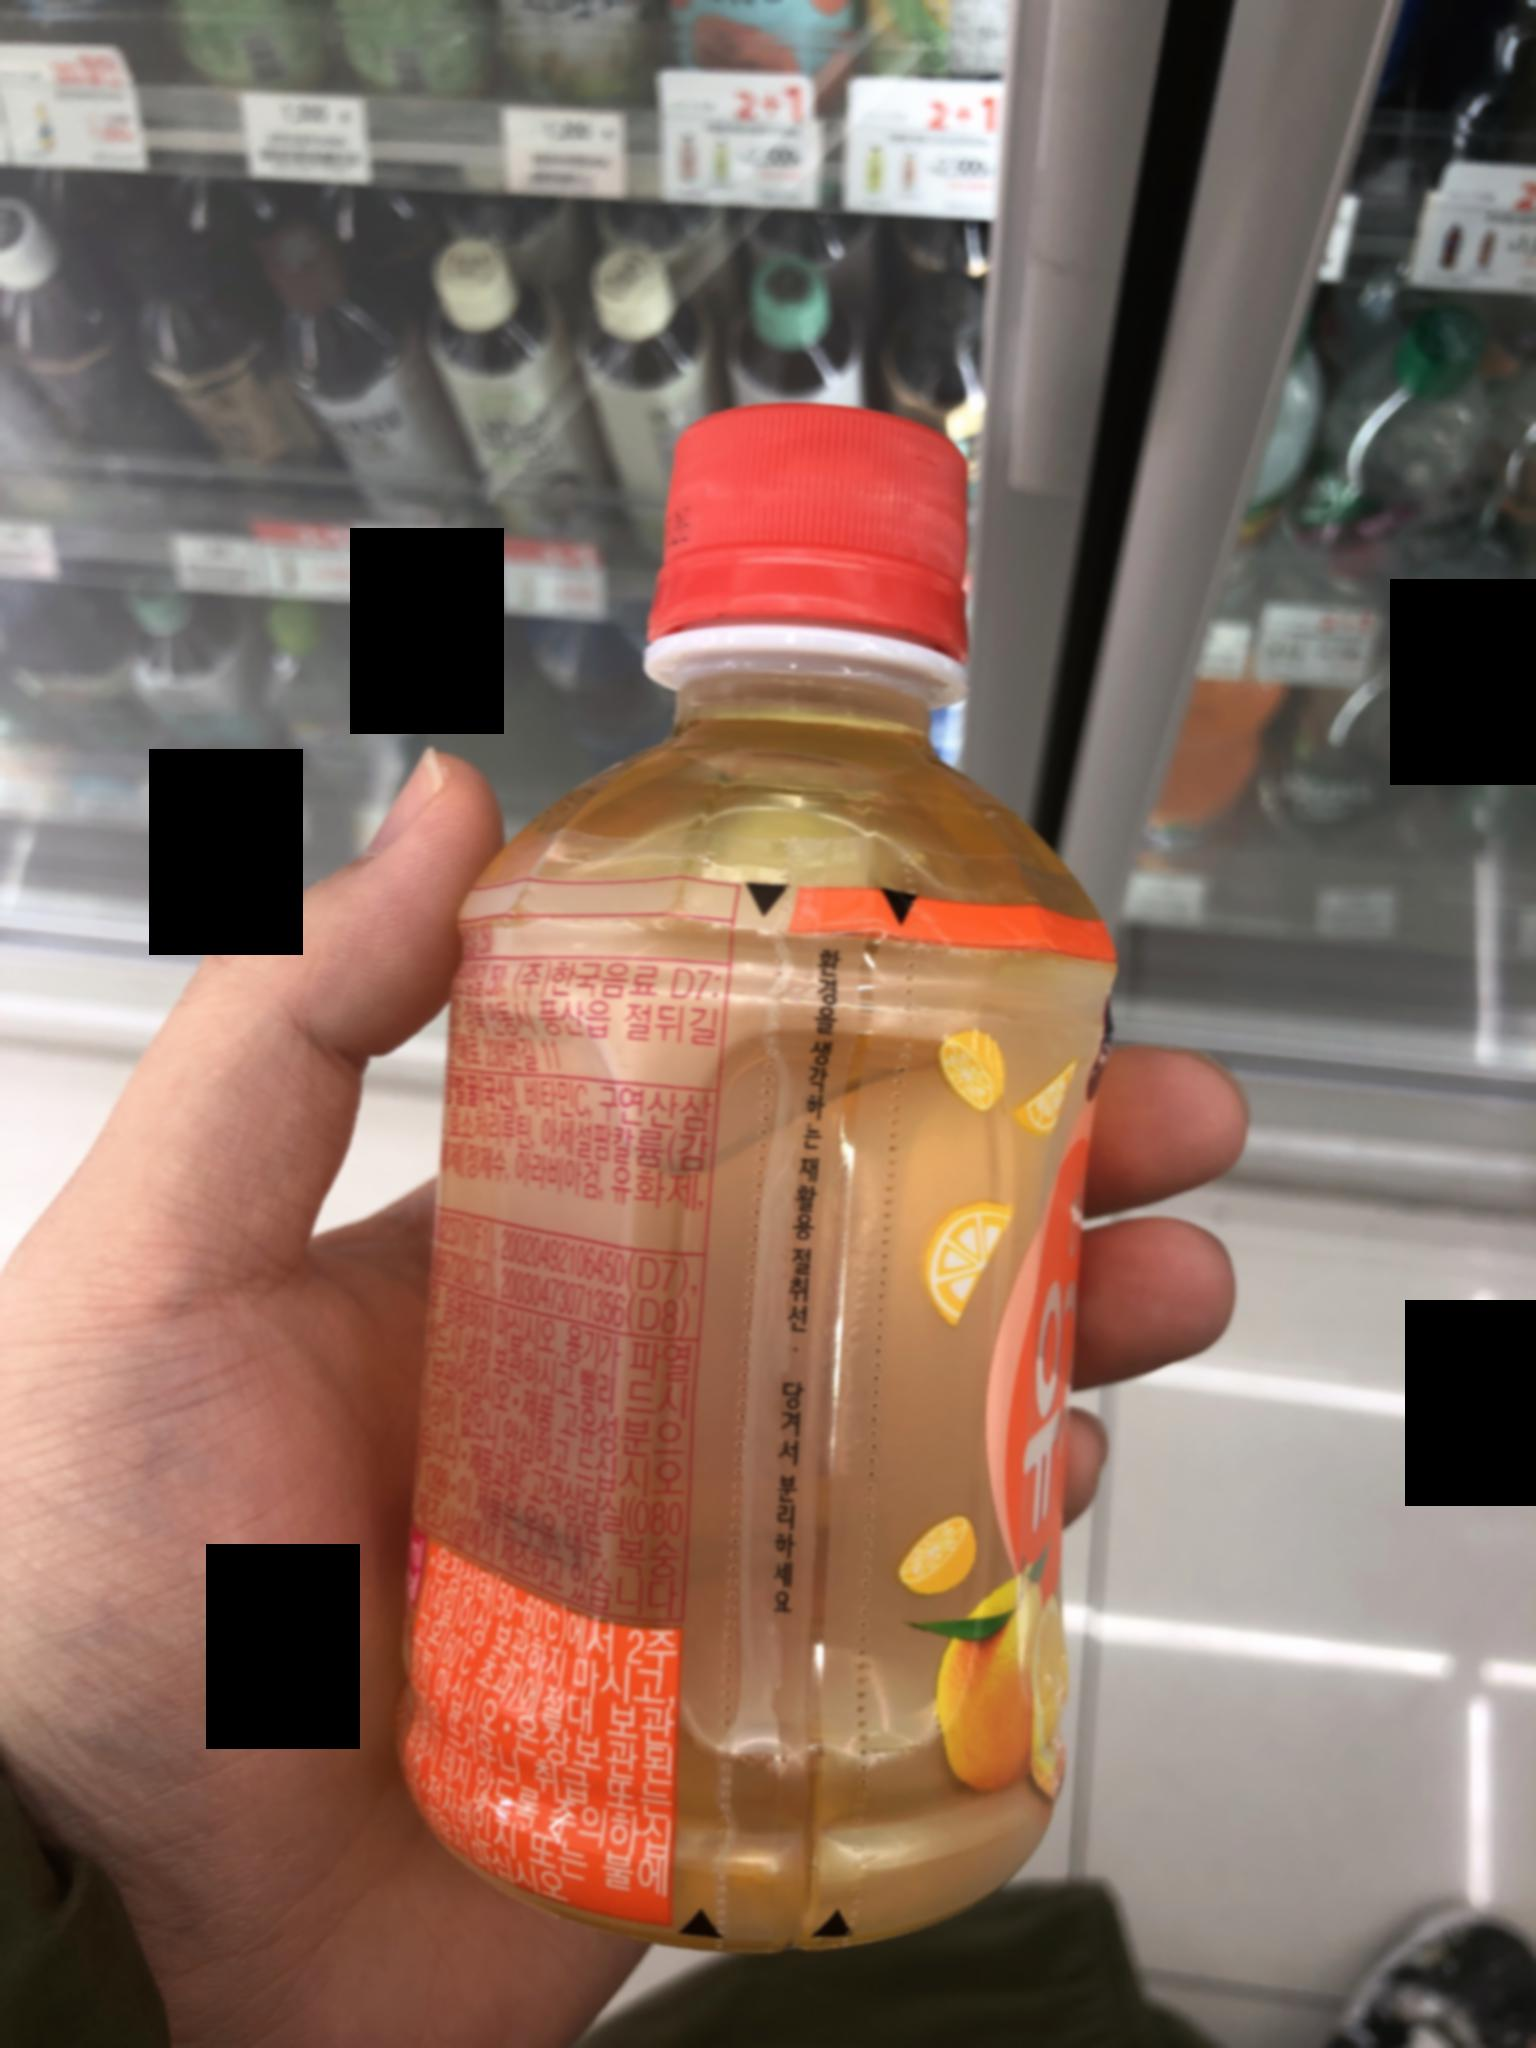honeyyuja: (323, 369, 1170, 1993)
